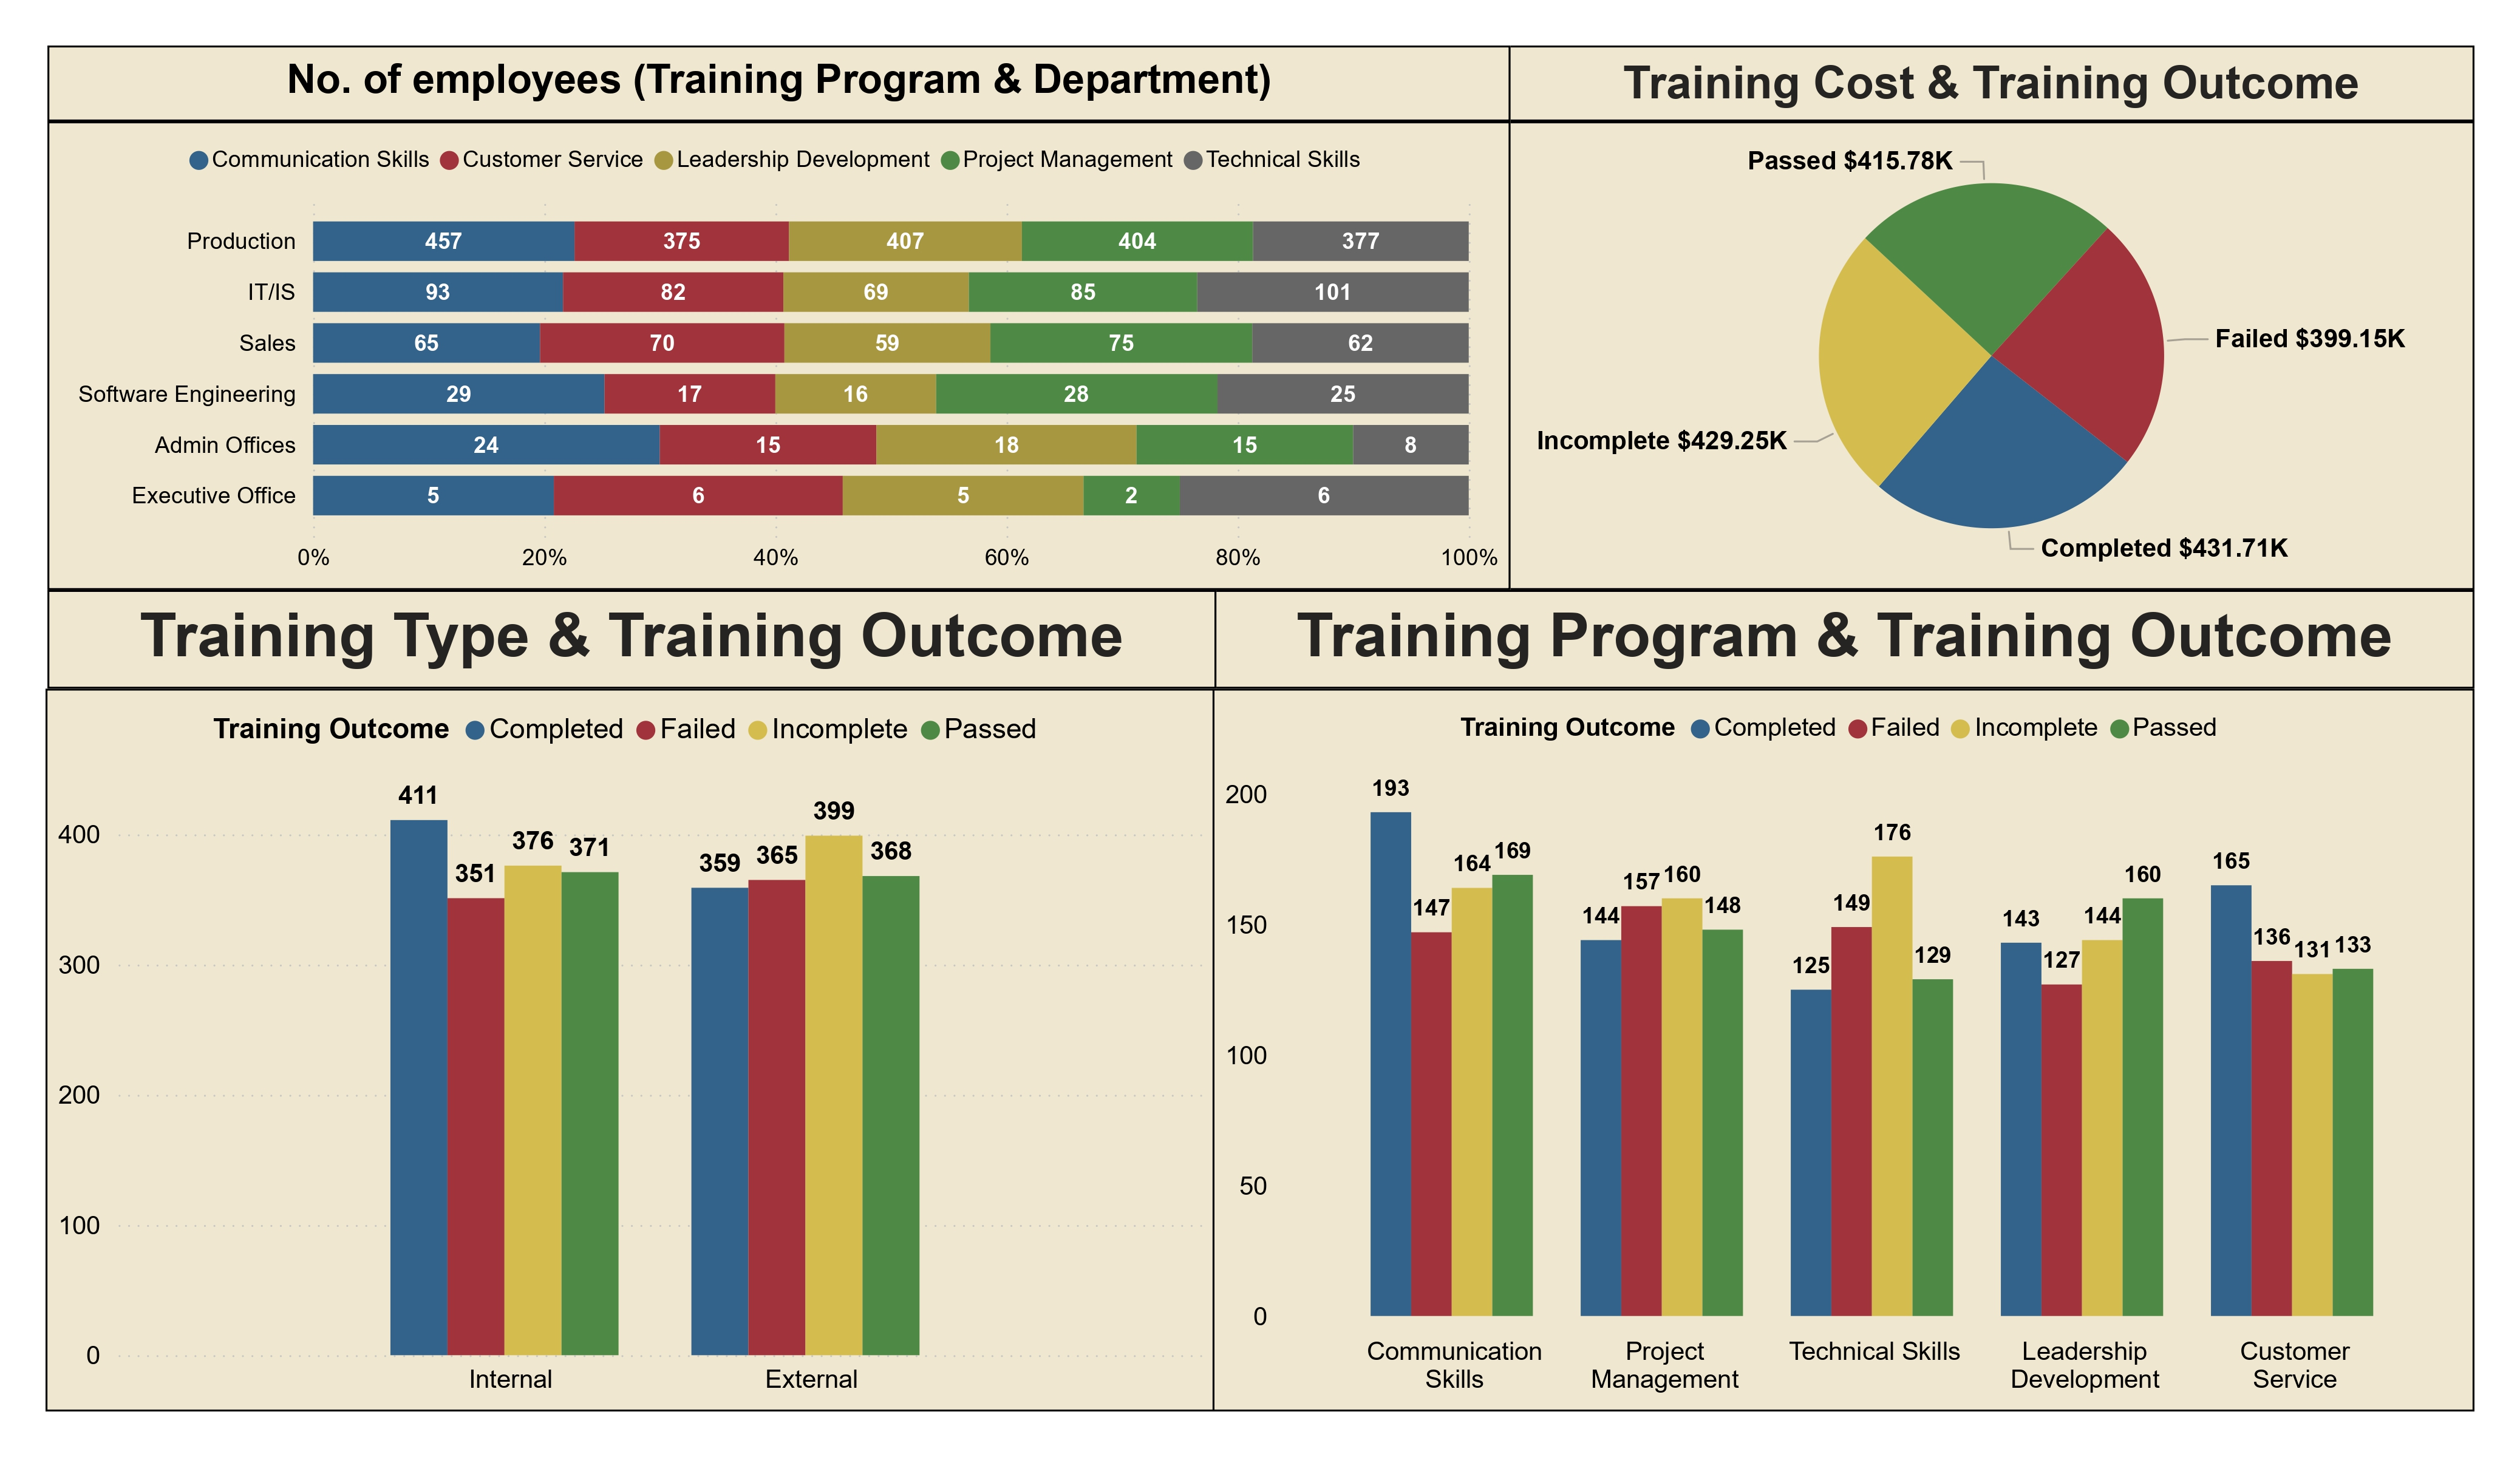

This screenshot's page, from the dashboard's own definition file:
{"tool":"powerbi","page":{"name":"Training and Development ","canvas":[1280,720],"ordinal":3},"visuals":[{"type":"clusteredColumnChart","fields":{"Y":["employee_data.No.of employees"],"Category":["training_and_development_data.Training Program Name"],"Series":["training_and_development_data.Training Outcome"]},"box":[615.1,339.4,664.9,381],"z":1000},{"type":"textbox","box":[615.7,286.5,664.2,52.9],"z":2002},{"type":"clusteredColumnChart","fields":{"Y":["employee_data.No.of employees"],"Category":["training_and_development_data.Training Type"],"Series":["training_and_development_data.Training Outcome"]},"box":[0,339.4,615.7,380.6],"z":2003},{"type":"textbox","box":[1.5,286.5,615.7,52.9],"z":2004},{"type":"pieChart","fields":{"Category":["training_and_development_data.Training Outcome"],"Y":["Sum(training_and_development_data.Training Cost)"]},"box":[771.4,39.7,508.4,246.9],"z":2005},{"type":"textbox","box":[771.4,0,508.4,39.7],"z":2006},{"type":"hundredPercentStackedBarChart","fields":{"Category":["employee_data.DepartmentType"],"Y":["employee_data.No.of employees"],"Series":["training_and_development_data.Training Program Name"]},"box":[1.4,40.2,770.2,246.6],"z":2007},{"type":"textbox","box":[1.4,0,770.2,40.2],"z":2008}]}

Visuals, with their boxes on the page's 1280x720 design canvas (x1, y1, x2, y2). These are canvas units, not pixel positions in the 2520x1457 screenshot, which may show the page scaled, cropped or inside an application window:
clusteredColumnChart - employee_data.No.of employees x training_and_development_data.Training Program Name: bbox(615, 339, 1280, 720)
textbox: bbox(616, 286, 1280, 339)
clusteredColumnChart - employee_data.No.of employees x training_and_development_data.Training Type: bbox(0, 339, 616, 720)
textbox: bbox(2, 286, 617, 339)
pieChart - training_and_development_data.Training Outcome x Sum(training_and_development_data.Training Cost): bbox(771, 40, 1280, 287)
textbox: bbox(771, 0, 1280, 40)
hundredPercentStackedBarChart - employee_data.DepartmentType x employee_data.No.of employees: bbox(1, 40, 772, 287)
textbox: bbox(1, 0, 772, 40)
